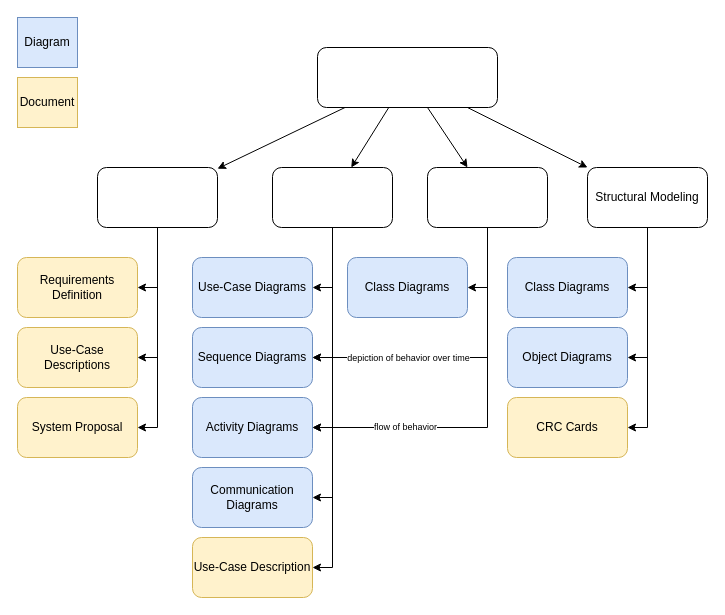
The diagram is 725 pixels wide and 615 high, and some of its shapes have lost their labels. Each missing label, with the box of its shape:
Behavioral Modeling: (426, 166, 548, 228)
Functional Modeling: (272, 166, 392, 228)
Requirement and Analysis modeling: (316, 46, 498, 108)
Requirement Determination: (96, 166, 218, 228)
